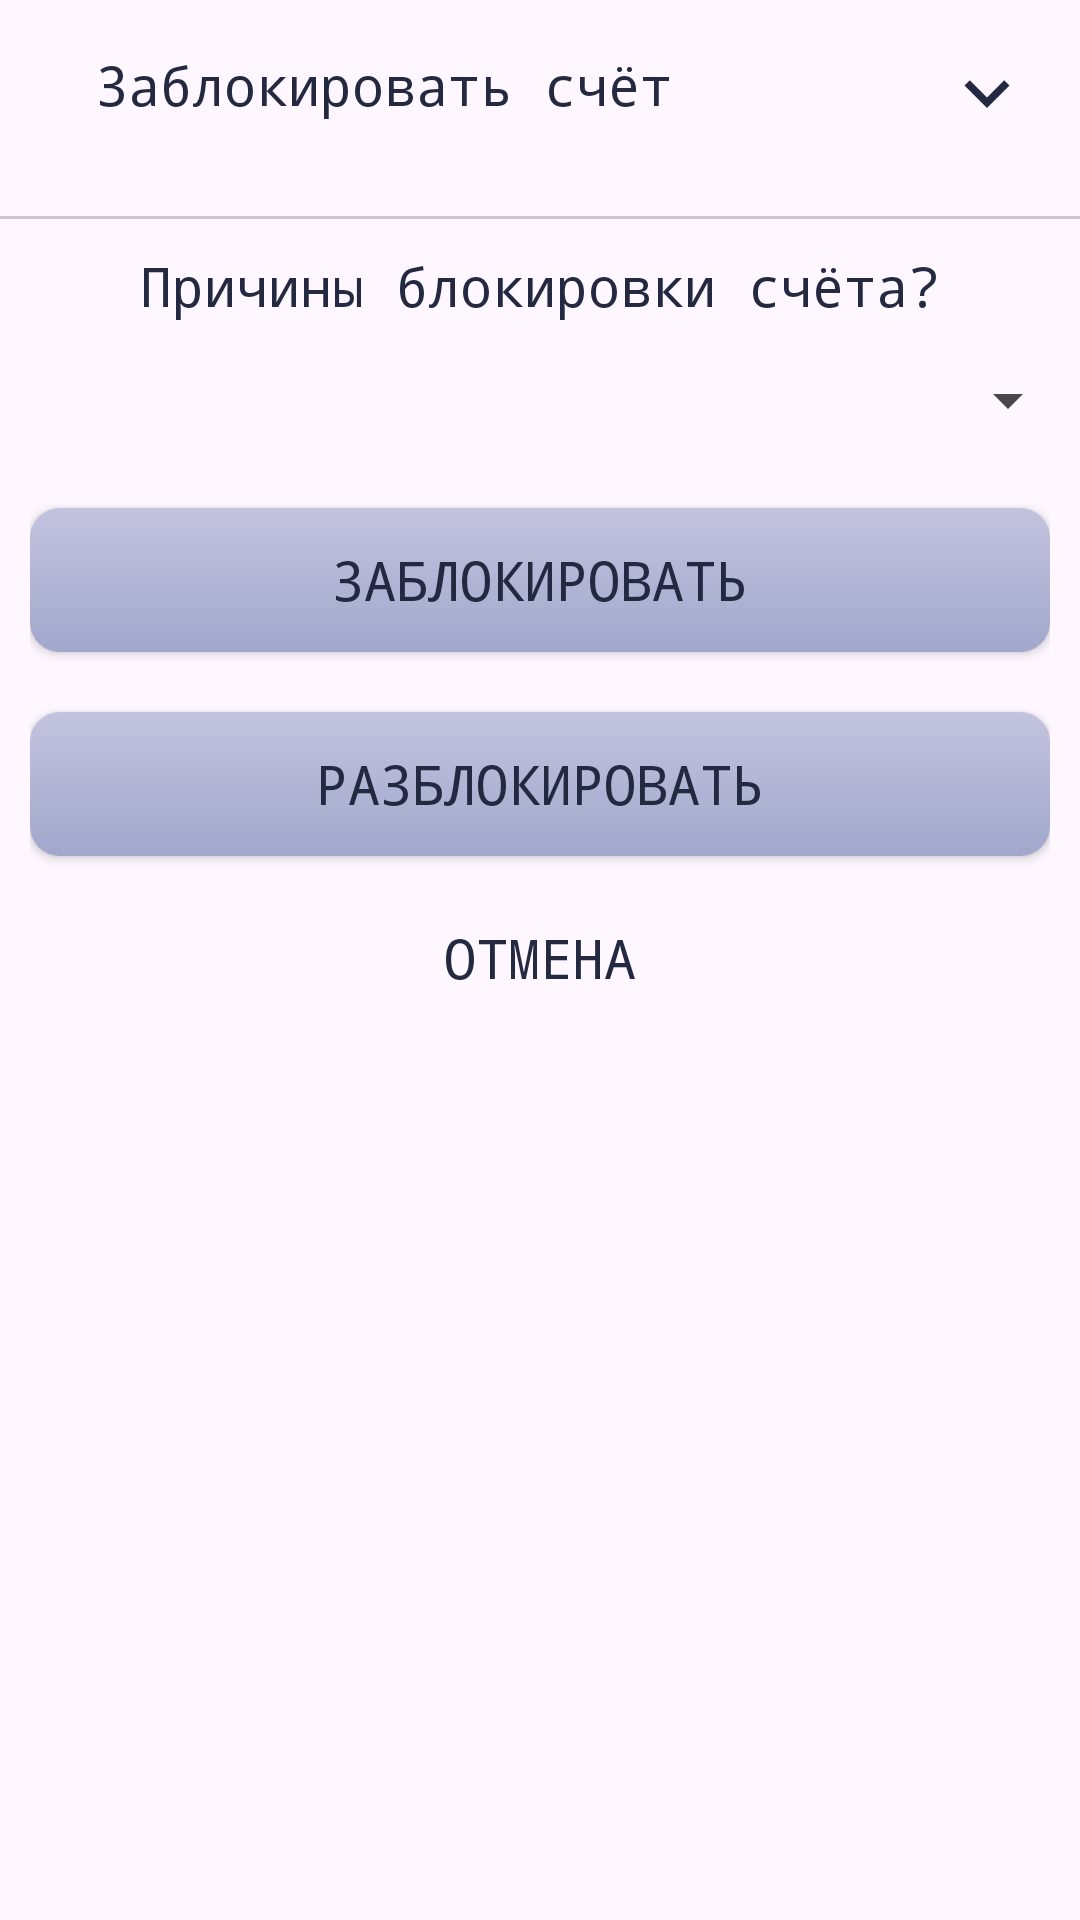

Where to tap for icons on this 1080px x 1920px app screen, as [x,y]:
aarrow down: [987,94]
